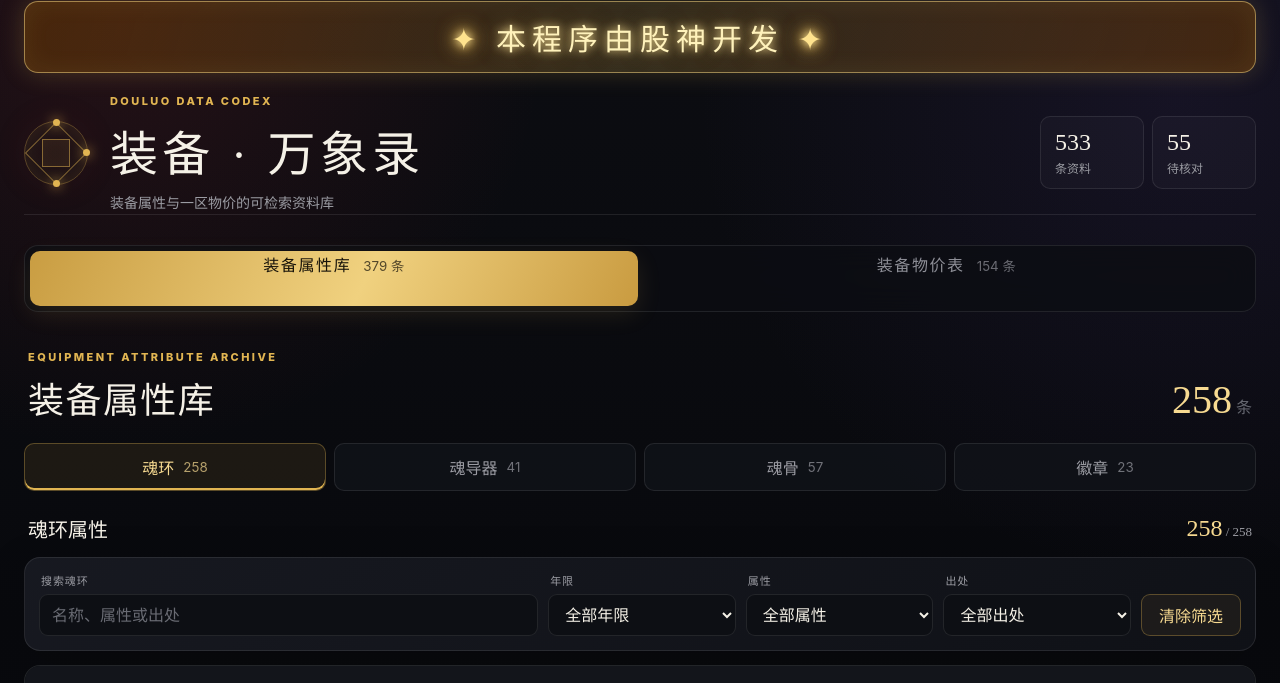
Scenario: dashboard modules › shows the complete badge critical-damage price ladder
The image size is (1280, 683).
Click the button "装备物价表 154 条": (921, 265) [642,251,1250,306]
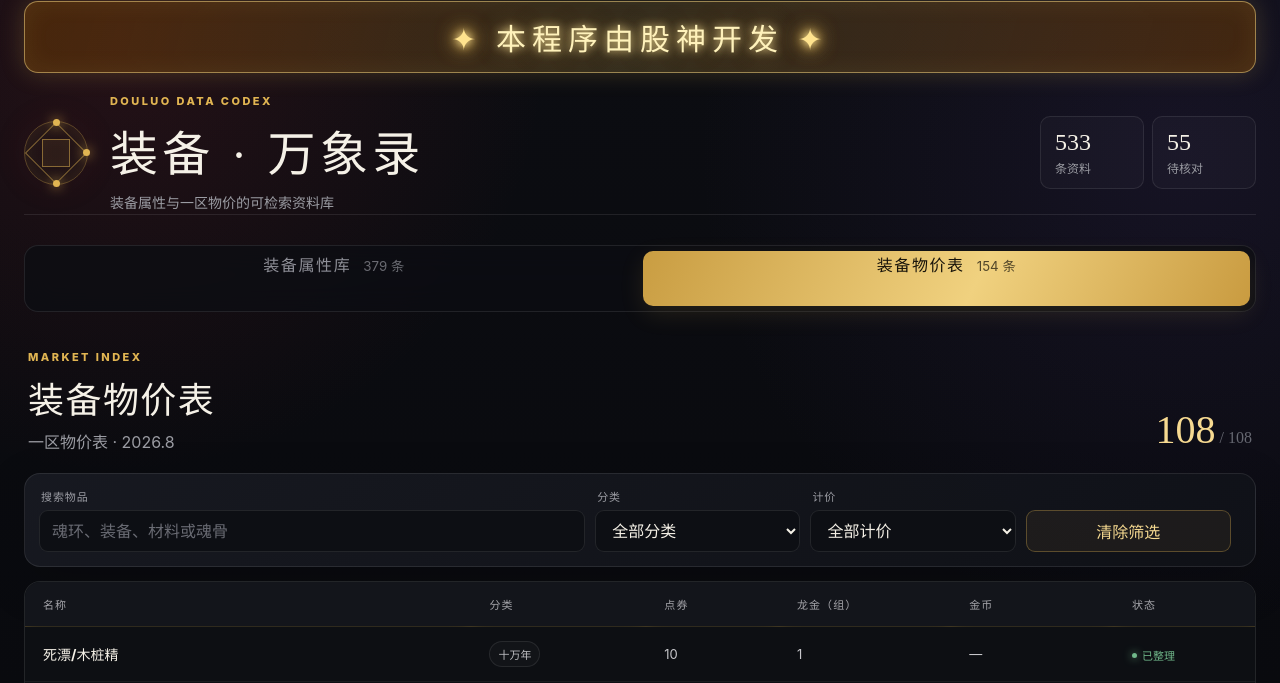
Select "徽章" in the dropdown labelled "分类": (698, 531) [595,510,800,552]
(page scrolled)
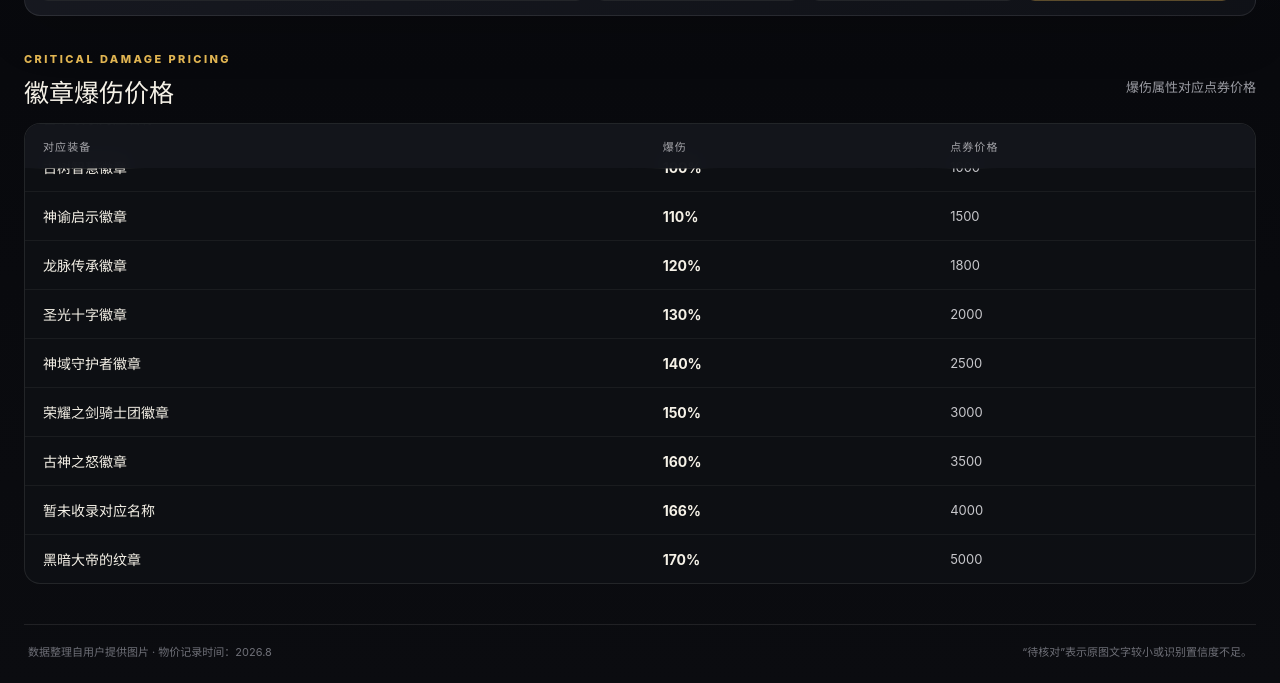
Check: the text "5000" is shown, box [932,534,1255,583]
Check: the text "170%" is shown, box [663,550,700,568]
